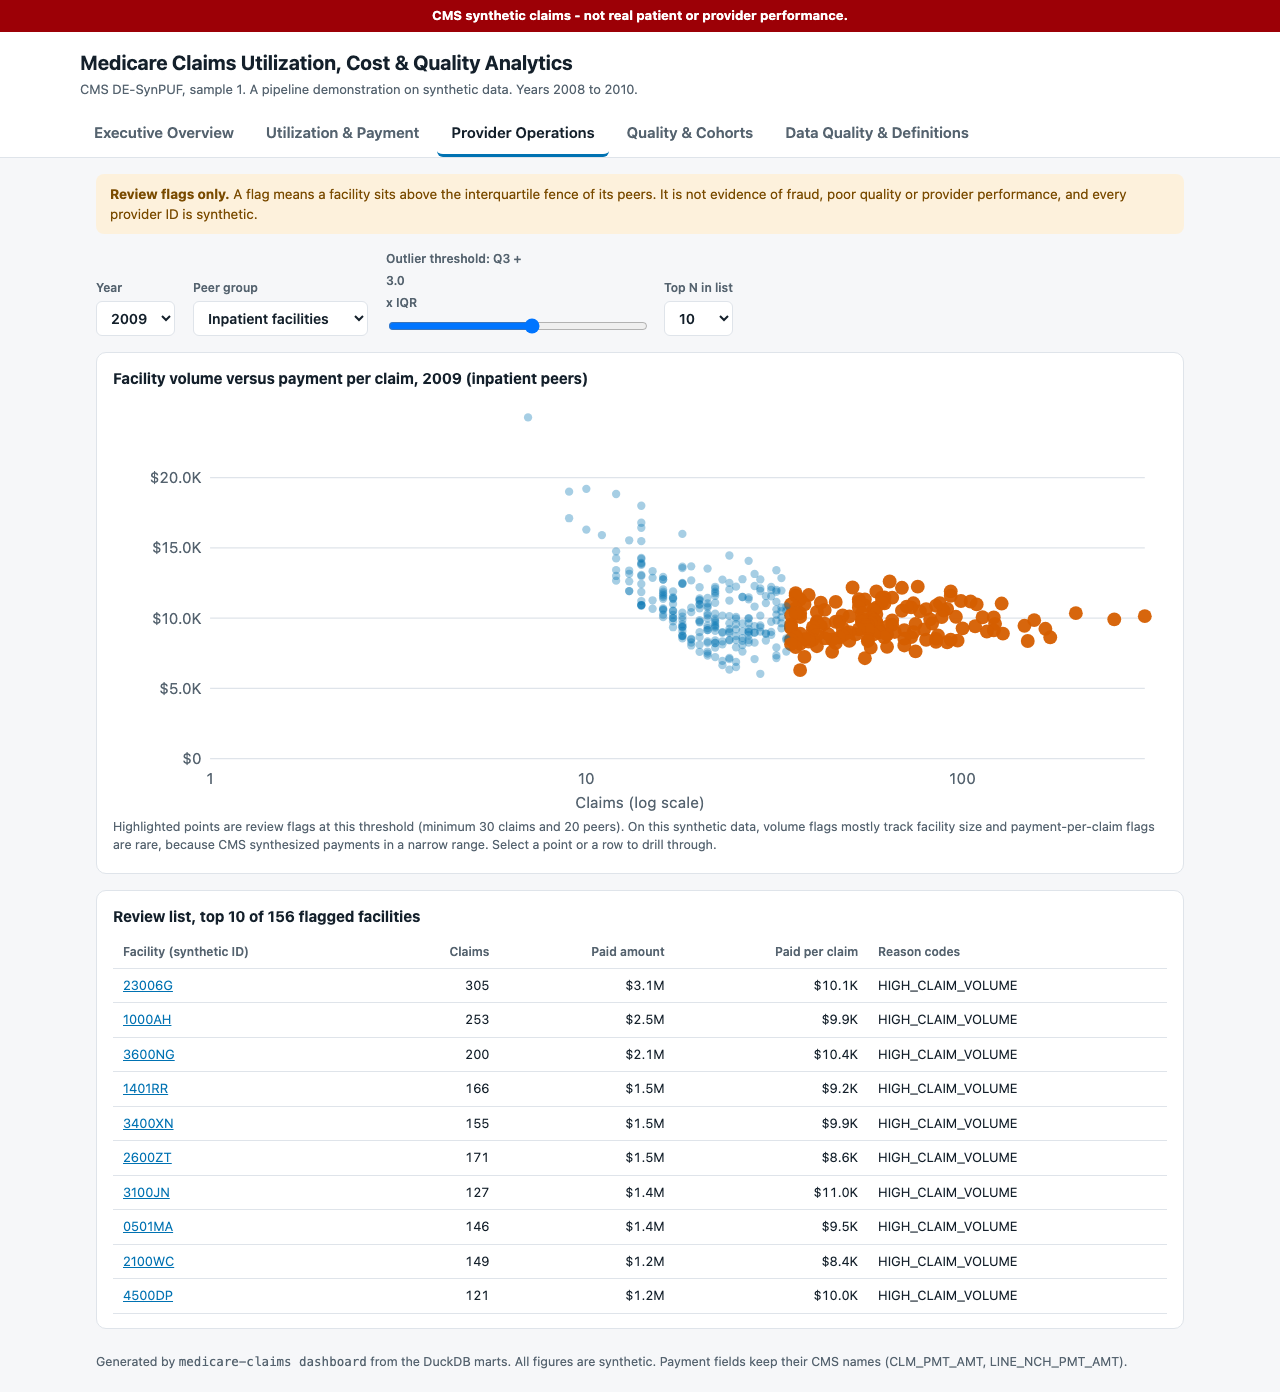

The page's visual inventory and layout, read from the dashboard file:
{"tool":"tableau","page":{"name":"Provider Operations","canvas":[1366,768],"ordinal":2},"visuals":[{"type":"text","box":[0,0,1366,72]},{"type":"text","box":[0,72,1366,36]},{"type":"text","box":[0,108,1366,36]},{"type":"parameter","param":"[Parameters].[year_param]","box":[0,144,273.2,48]},{"type":"filter","title":"Provider volume vs paid per claim","param":"[federated.3b5bcd0343e1324b421099fe316c].[none:provider_type:nk]","box":[273.2,144,409.8,48]},{"type":"legend","title":"Provider volume vs paid per claim","param":"[federated.3b5bcd0343e1324b421099fe316c].[none:review_flag:nk]","box":[683,144,273.2,48]},{"type":"text","box":[956.2,144,409.8,48]},{"type":"worksheet","title":"Provider volume vs paid per claim","mark":"Circle","rows":["payment_per_claim"],"cols":["claims"],"box":[0,192,819.6,544]},{"type":"worksheet","title":"Provider action queue","mark":"Text","rows":["provider_id","reason_codes"],"box":[819.6,192,546.4,544]},{"type":"text","box":[0,736,1366,32]}]}

Visuals, with their boxes on the page's 1366x768 design canvas (x1, y1, x2, y2). These are canvas units, not pixel positions in the 1280x1392 screenshot, which may show the page scaled, cropped or inside an application window:
text: bbox(0, 0, 1366, 72)
text: bbox(0, 72, 1366, 108)
text: bbox(0, 108, 1366, 144)
parameter: bbox(0, 144, 273, 192)
"Provider volume vs paid per claim" filter: bbox(273, 144, 683, 192)
"Provider volume vs paid per claim" legend: bbox(683, 144, 956, 192)
text: bbox(956, 144, 1366, 192)
"Provider volume vs paid per claim" worksheet (Circle marks): bbox(0, 192, 820, 736)
"Provider action queue" worksheet (Text marks): bbox(820, 192, 1366, 736)
text: bbox(0, 736, 1366, 768)
